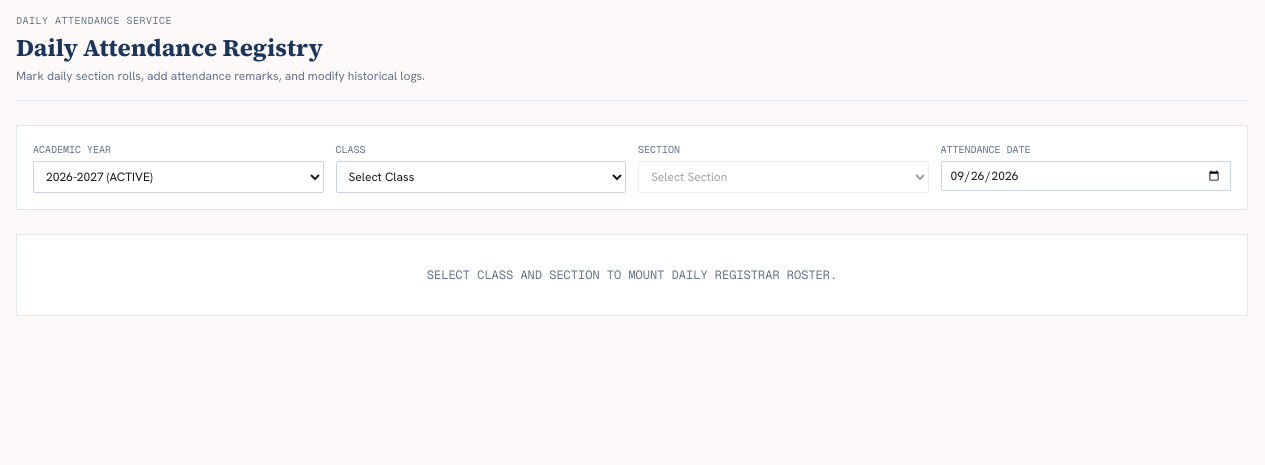
Test case: AttendancePage Component › 11. create permission disables new record controls
The width and height of the screenshot is (1265, 465).
Select "Nursery" in the dropdown labelled "Class": (481, 177) [336,161,626,193]
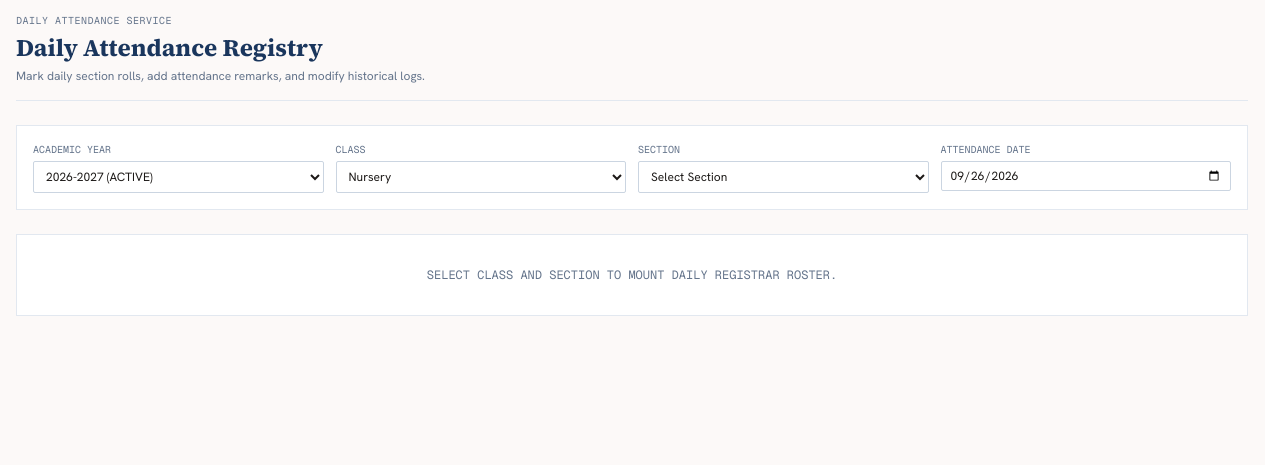
Select "A" in the dropdown labelled "Section": (783, 177) [638,161,928,193]
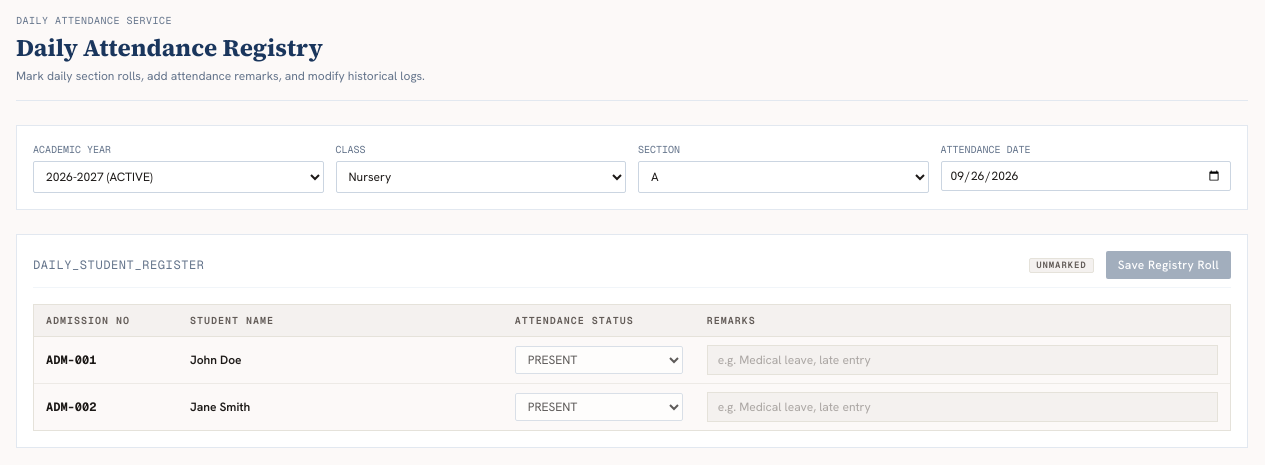
Expected: the text "John Doe" is shown, [178,336,503,384]
Expected: the dropdown in the row of "ADM-001" is disabled, [515,346,683,374]
Expected: the button "Save Registry Roll" is disabled, [1106,251,1231,279]
